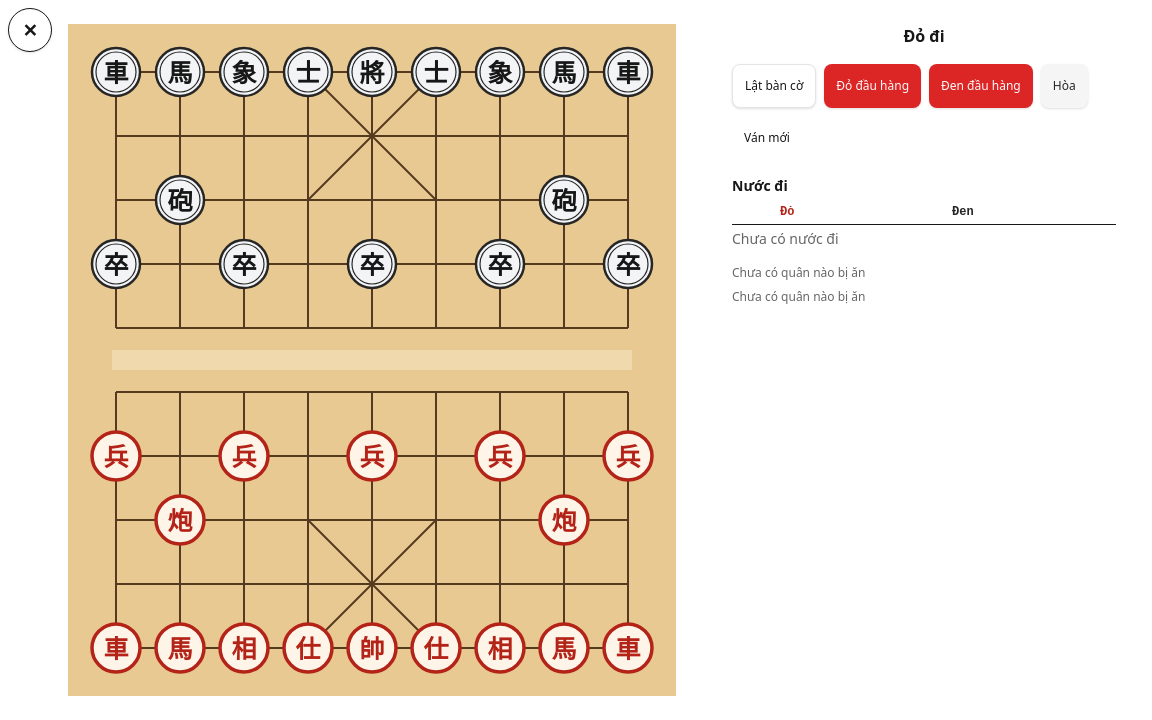
Test case: LOCAL-01: /play/local game page › closing the result dialog keeps it closed until a new game starts
Click the button "Hòa": {"x": 1064, "y": 86} [1041, 64, 1088, 108]
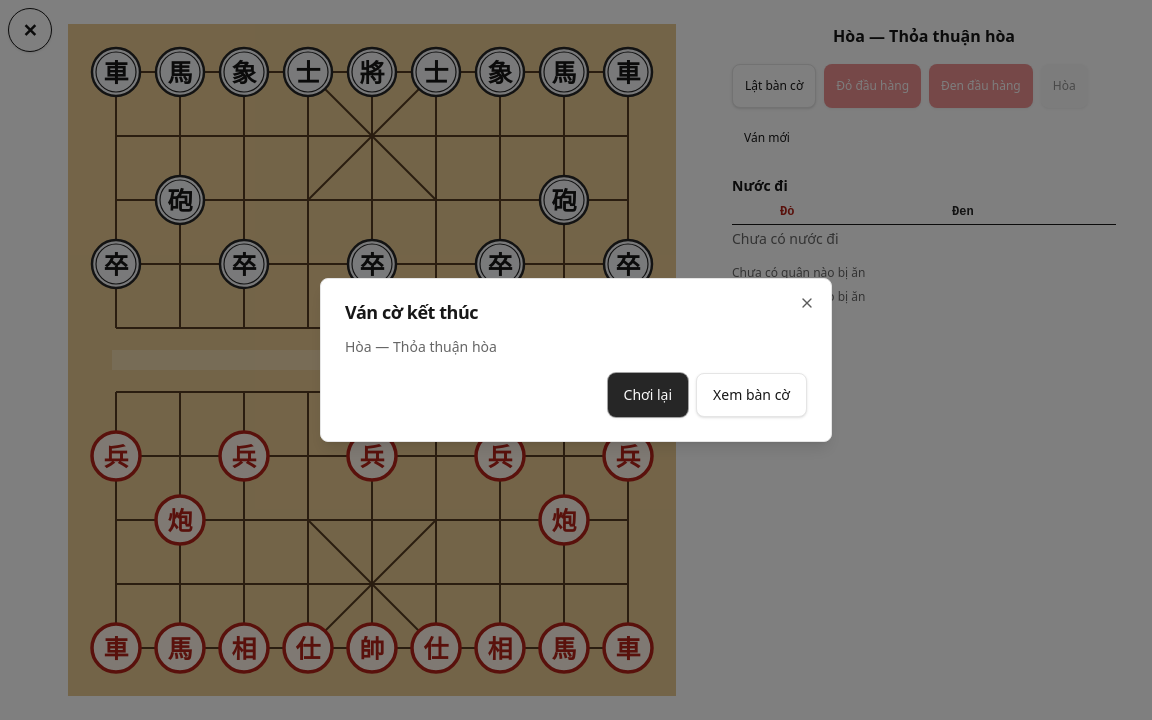
Result: the dialog shows "Hòa — Thỏa thuận hòa" at [345, 337, 497, 356]
Click the button "Xem bàn cờ": {"x": 752, "y": 395} [696, 373, 807, 417]
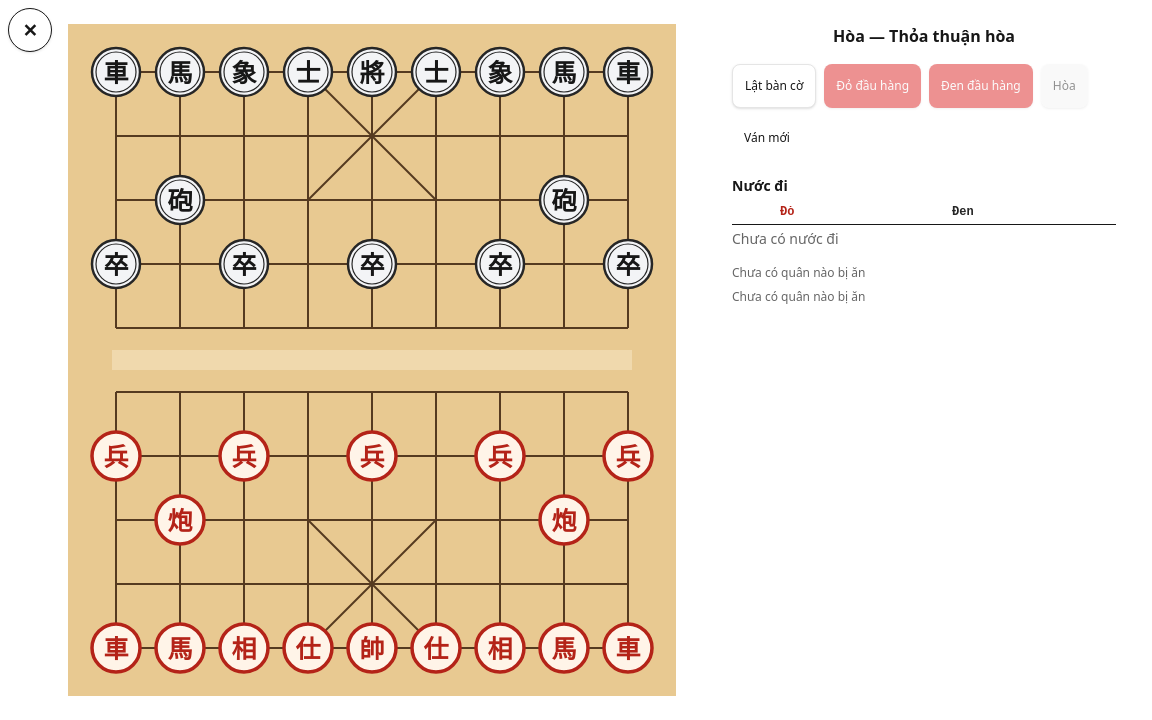
Result: the dialog is gone
